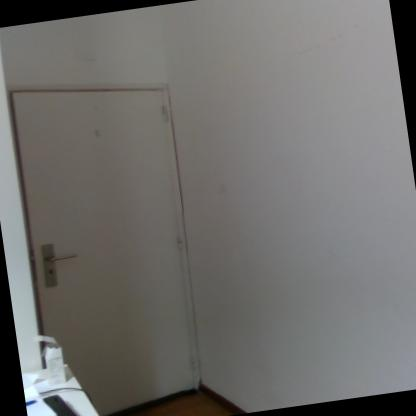closed: (6, 63, 228, 414)
